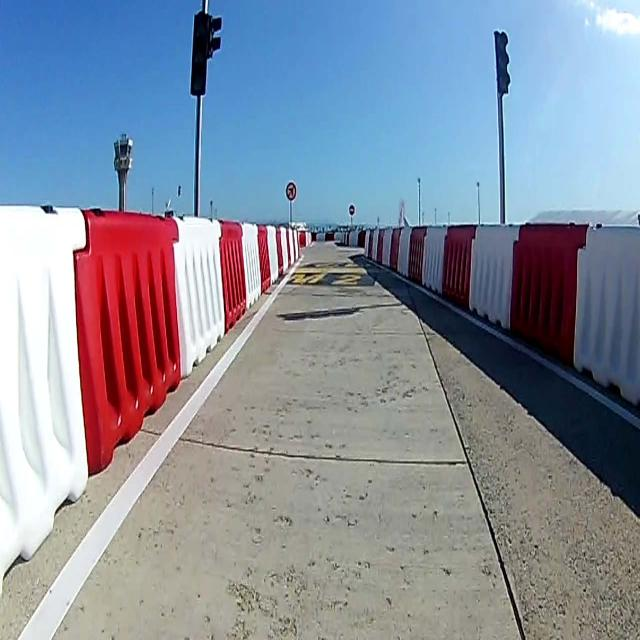girisyok: (348, 205, 354, 215)
soladonulmez: (286, 182, 296, 201)
